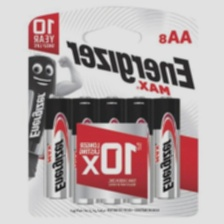battery: (93, 94, 129, 208), (66, 94, 100, 207), (122, 92, 154, 207), (150, 94, 181, 201), (43, 95, 74, 200)
